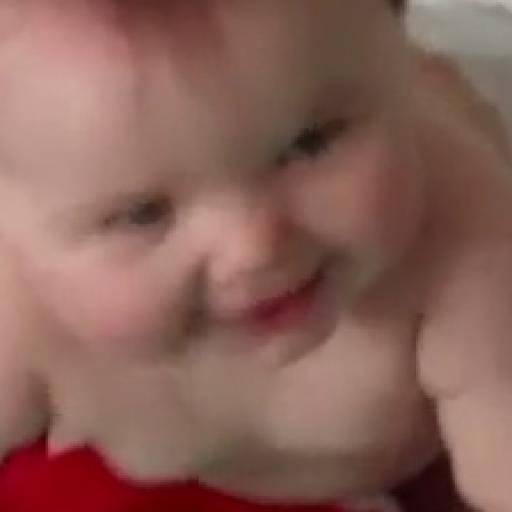Autism: (2, 5, 512, 393)
